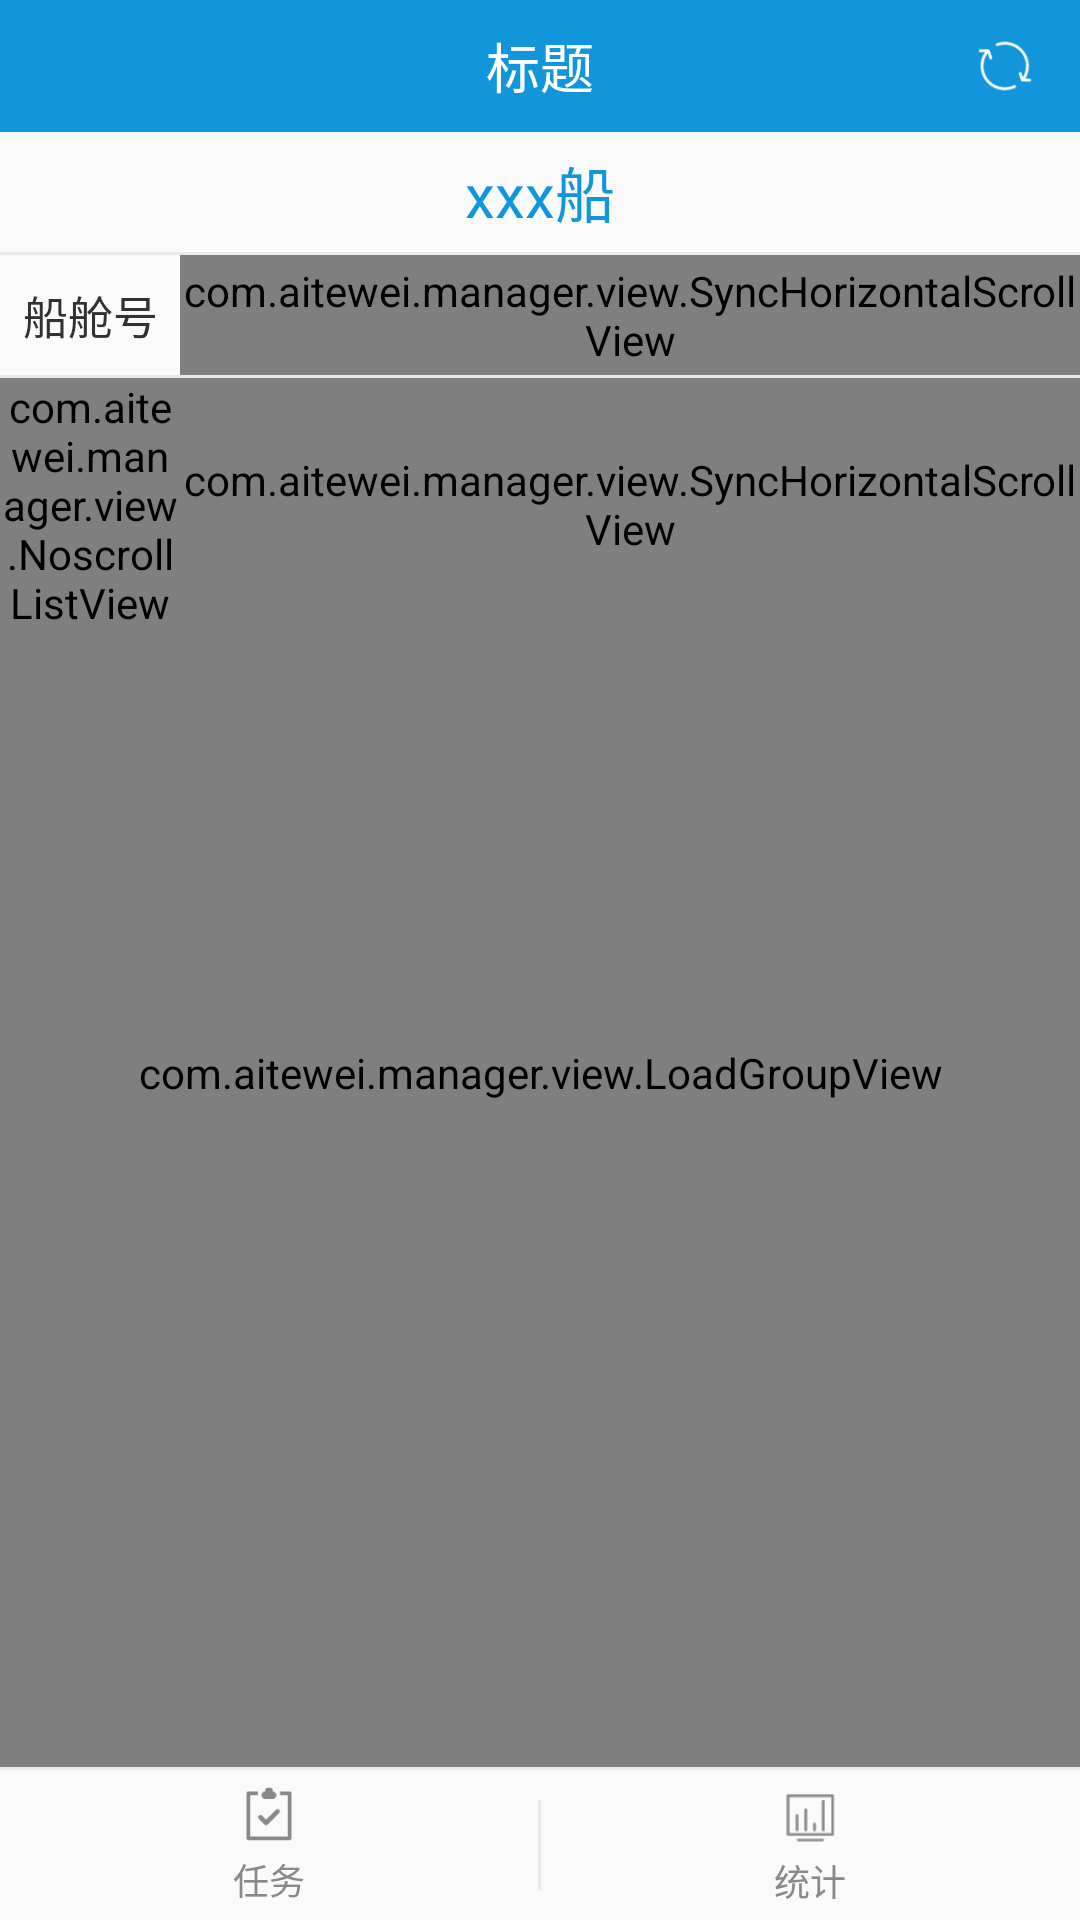

Point at icon controls on the screen. Image size 1080px x 1920px, points as point (x, y).
ship detail refresh: point (1005, 66)
